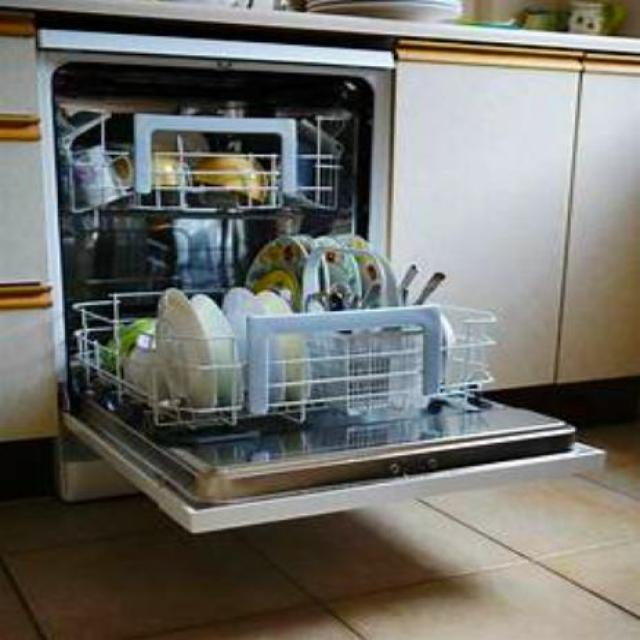dishwasher: (33, 23, 601, 533)
